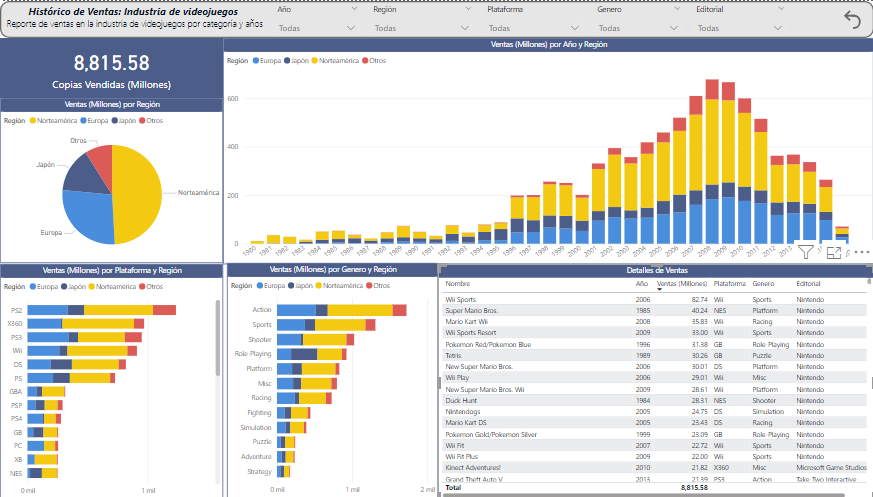

The dashboard page shown, as its layout file describes it:
{"tool":"powerbi","page":{"name":"Página 1","canvas":[1400,800],"ordinal":0},"visuals":[{"type":"shape","box":[0,0,1398.4,59.2],"z":0},{"type":"tableEx","title":"Detalles de Ventas","fields":{"Values":["Ventas Videojuegos.Nombre","Ventas Videojuegos.Año","Sum(Ventas Videojuegos.Ventas (Millones))","Ventas Videojuegos.Plataforma","Ventas Videojuegos.Genero","Ventas Videojuegos.Editorial"]},"box":[700.8,420.8,699.2,379.2],"z":1000},{"type":"columnChart","fields":{"Category":["Ventas Videojuegos.Año"],"Y":["Sum(Ventas Videojuegos.Ventas (Millones))"],"Series":["Ventas Videojuegos.Región"]},"box":[356.9,58.7,1041.4,361.8],"z":2000},{"type":"pieChart","fields":{"Category":["Ventas Videojuegos.Región"],"Y":["Sum(Ventas Videojuegos.Ventas (Millones))"]},"box":[0,155.2,356.8,264],"z":3000},{"type":"barChart","fields":{"Y":["Sum(Ventas Videojuegos.Ventas (Millones))"],"Series":["Ventas Videojuegos.Región"],"Category":["Ventas Videojuegos.Plataforma"]},"box":[0,420.8,356.8,379.2],"z":4000},{"type":"barChart","fields":{"Y":["Sum(Ventas Videojuegos.Ventas (Millones))"],"Series":["Ventas Videojuegos.Región"],"Category":["Ventas Videojuegos.Genero"]},"box":[363.2,419.2,337.6,379.2],"z":5000},{"type":"card","fields":{"Values":["Sum(Ventas Videojuegos.Ventas (Millones))"]},"box":[0,59.2,356.8,96],"z":6000},{"type":"slicer","fields":{"Values":["Ventas Videojuegos.Año"]},"box":[430.4,0,153.6,59.2],"z":7000},{"type":"slicer","fields":{"Values":["Ventas Videojuegos.Región"]},"box":[584,0,182.4,59.2],"z":8000},{"type":"slicer","fields":{"Values":["Ventas Videojuegos.Plataforma"]},"box":[766.4,0,176,59.2],"z":9000},{"type":"slicer","fields":{"Values":["Ventas Videojuegos.Genero"]},"box":[942.4,0,158.4,59.2],"z":10000},{"type":"slicer","fields":{"Values":["Ventas Videojuegos.Editorial"]},"box":[1100.8,0,166.4,59.2],"z":11000},{"type":"textbox","box":[0,0,430.4,68.8],"z":12000},{"type":"actionButton","box":[1344,9.6,54.4,40],"z":13000}]}

Visuals, with their boxes in screenshot pixels (x1, y1, x2, y2), scaled from the page's 1400x800 canvas onto the 873x497 screenshot:
shape: {"left": 0, "top": 0, "right": 872, "bottom": 37}
"Detalles de Ventas" tableEx: {"left": 437, "top": 261, "right": 872, "bottom": 496}
columnChart - Ventas Videojuegos.Año x Sum(Ventas Videojuegos.Ventas (Millones)): {"left": 223, "top": 36, "right": 872, "bottom": 261}
pieChart - Ventas Videojuegos.Región x Sum(Ventas Videojuegos.Ventas (Millones)): {"left": 0, "top": 96, "right": 222, "bottom": 260}
barChart - Sum(Ventas Videojuegos.Ventas (Millones)) x Ventas Videojuegos.Región: {"left": 0, "top": 261, "right": 222, "bottom": 496}
barChart - Sum(Ventas Videojuegos.Ventas (Millones)) x Ventas Videojuegos.Región: {"left": 226, "top": 260, "right": 437, "bottom": 496}
card - Sum(Ventas Videojuegos.Ventas (Millones)): {"left": 0, "top": 37, "right": 222, "bottom": 96}
slicer - Ventas Videojuegos.Año: {"left": 268, "top": 0, "right": 364, "bottom": 37}
slicer - Ventas Videojuegos.Región: {"left": 364, "top": 0, "right": 478, "bottom": 37}
slicer - Ventas Videojuegos.Plataforma: {"left": 478, "top": 0, "right": 588, "bottom": 37}
slicer - Ventas Videojuegos.Genero: {"left": 588, "top": 0, "right": 686, "bottom": 37}
slicer - Ventas Videojuegos.Editorial: {"left": 686, "top": 0, "right": 790, "bottom": 37}
textbox: {"left": 0, "top": 0, "right": 268, "bottom": 43}
actionButton: {"left": 838, "top": 6, "right": 872, "bottom": 31}
